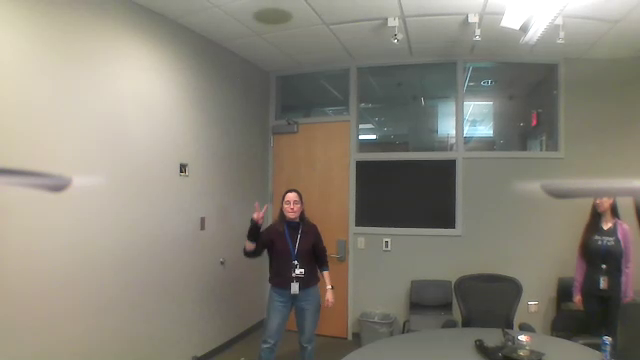peace: (249, 198, 272, 227)
